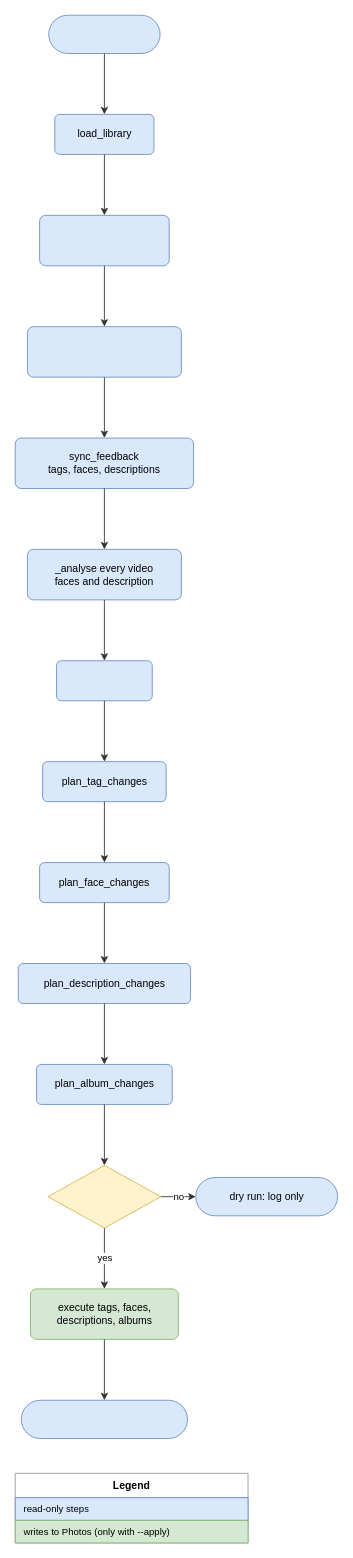
The diagram is 353 pixels wide and 1558 high, and some of its shapes have lost their labels. Each missing label, with the centre of its shape:
"--apply?" belongs at (x=104, y=1196).
"build_references from named people" belongs at (x=104, y=240).
"match_video" belongs at (x=104, y=680).
"person_models per-person thresholds" belongs at (x=104, y=351).
"save state and report" belongs at (x=103, y=1419).
"videotag run" belongs at (x=104, y=34).
